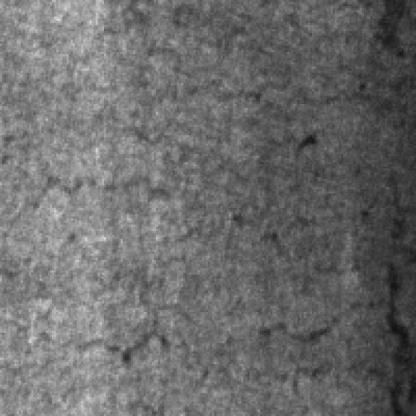crazing: (2, 170, 173, 279), (250, 225, 382, 339), (2, 296, 206, 368)
